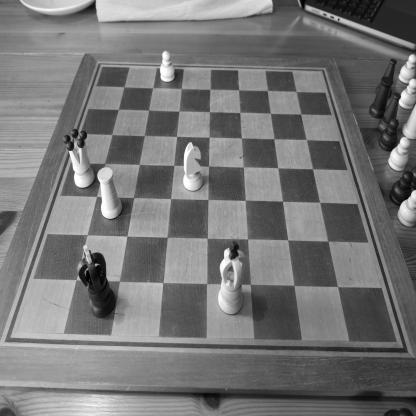black-bishop: (376, 92, 402, 136), (376, 58, 398, 98)
black-king: (76, 243, 117, 320)
black-pawn: (388, 170, 415, 209), (378, 117, 399, 152)
black-rook: (369, 75, 393, 119)
white-king: (217, 240, 246, 316)
white-knight: (182, 141, 204, 193)
white-pawn: (388, 136, 410, 173), (397, 189, 415, 230), (398, 53, 416, 85), (398, 78, 416, 109), (160, 49, 176, 83)
white-queen: (62, 127, 95, 190)
white-rook: (96, 166, 124, 222)
